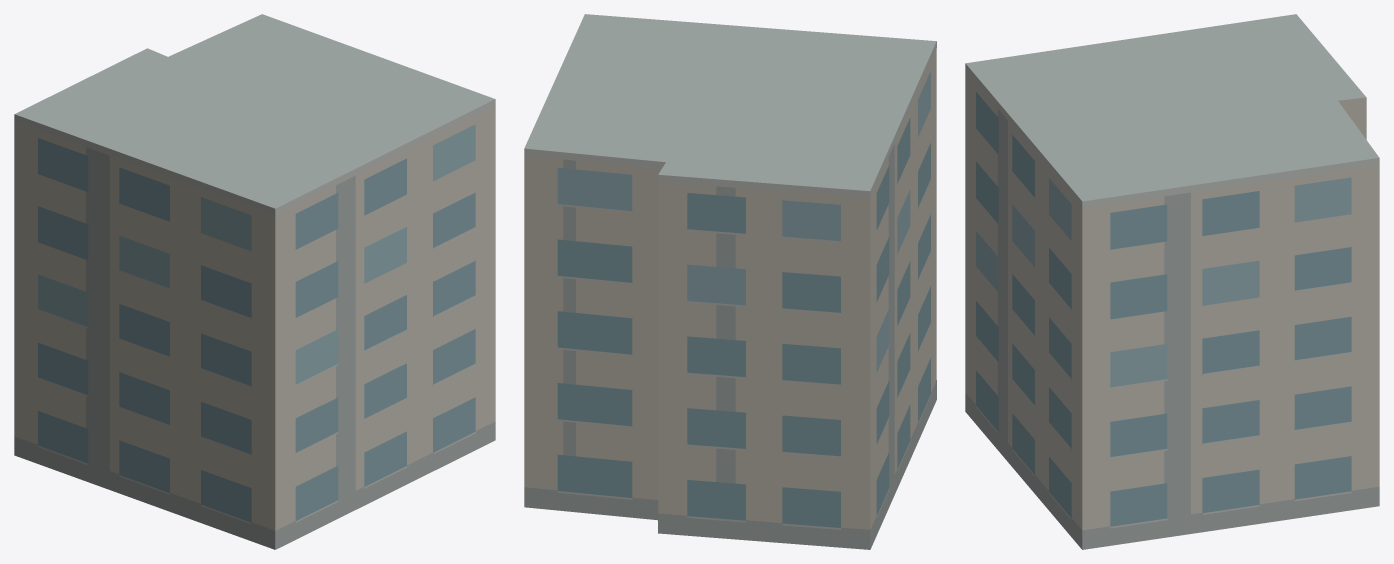
Rendered from survey-upis-32571429.glb.
3 renders of one model, left to right at view 1: azimuth 30°, elevation 25°; view 2: azimuth 150°, elevation 25°; view 3: azimuth 270°, elevation 25°, orthographic. The views are drawn at different scales.
Parts seen in each view (by area): view 1: survey-upis-32571429.tmp; view 2: survey-upis-32571429.tmp; view 3: survey-upis-32571429.tmp.
Boxes of the visible parts, x1,y1,x2,y2 form: survey-upis-32571429.tmp: [14, 14, 495, 549]; survey-upis-32571429.tmp: [524, 14, 936, 549]; survey-upis-32571429.tmp: [965, 14, 1379, 549].
Bounding box in the file's own units: 14.21 × 12.3 × 13.26.
